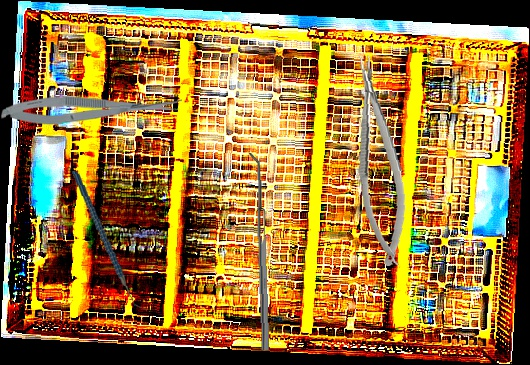Chopper: (72, 166, 147, 316)
Micro Scissor: (0, 93, 183, 127)
Needle Holder: (348, 52, 412, 269)
Spatula Surgical: (247, 152, 270, 351)
